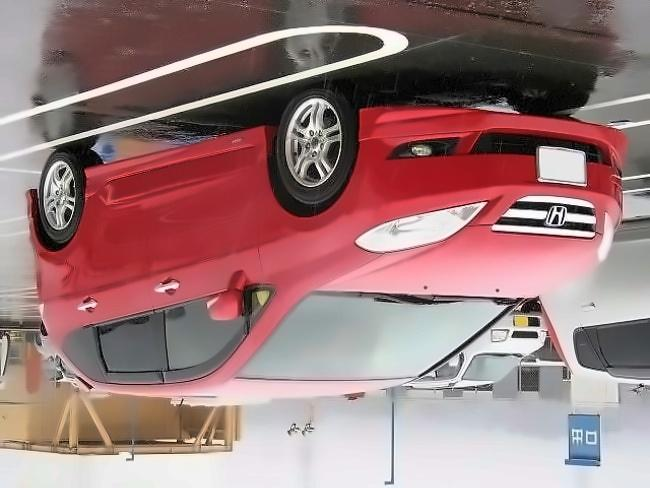Car hood: (327, 222, 598, 309)
Fender - -F-L-: (257, 128, 364, 303)
Fender - -R-L-: (41, 173, 89, 319)
Front bumper: (352, 99, 634, 208)
Headlight - -L-: (344, 193, 500, 260)
Headlight - -R-: (594, 207, 620, 267)
Passenger-s door - -F-L-: (152, 134, 257, 399)
Passenger-s door - -R-L-: (77, 160, 159, 399)
Rear bumper: (16, 177, 52, 259)
Rear light - -L-: (29, 307, 54, 356)
Side bumper - -L-: (67, 119, 281, 198)
Side mirror - -L-: (197, 276, 250, 325)
